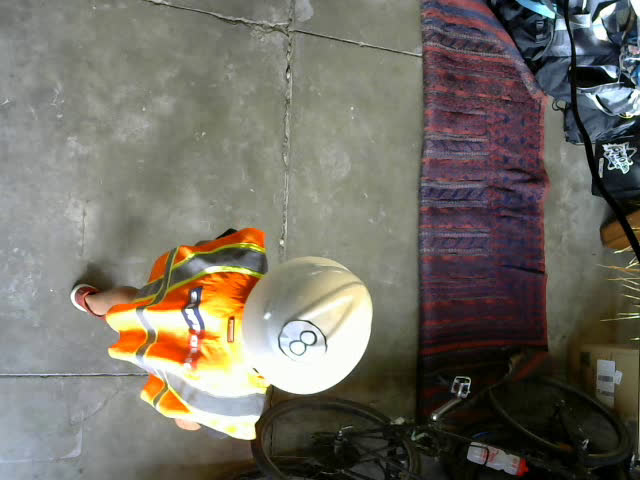eight: (278, 318, 329, 367)
